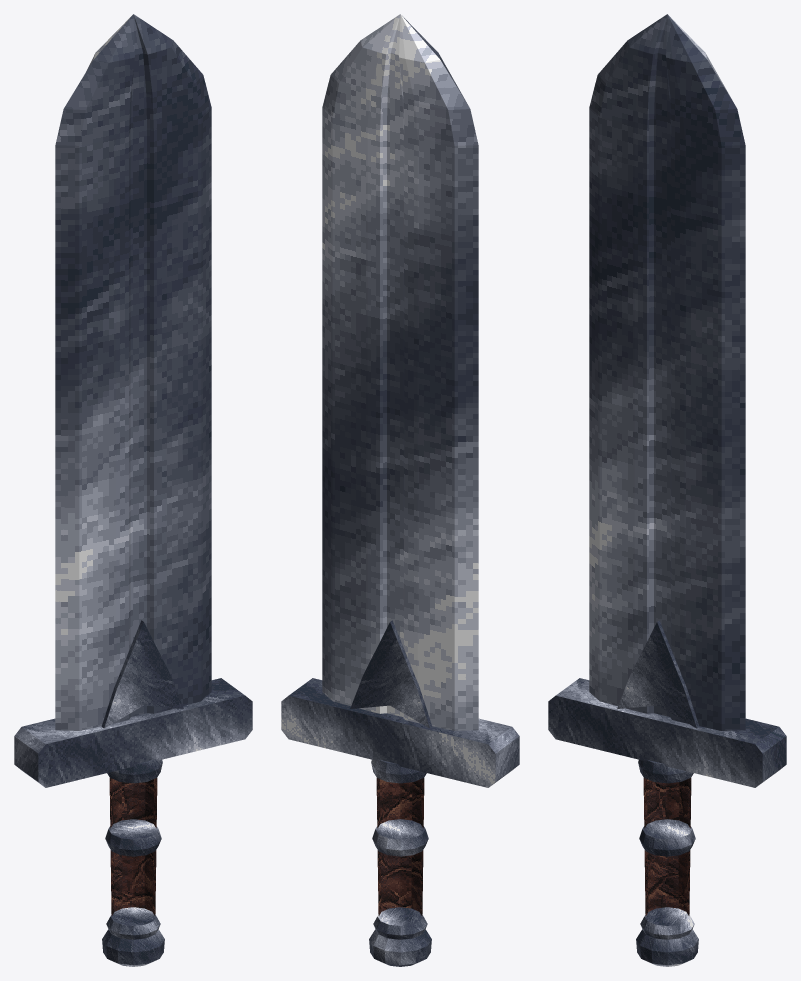
Rendered from espada_colossal.glb.
The picture shows the model from 3 angles, left to right: view 1: azimuth 30°, elevation 25°; view 2: azimuth 150°, elevation 25°; view 3: azimuth 330°, elevation 25°; orthographic projection.
Parts seen in each view (by area): view 1: Lâmina colossal facetada, Guarda maciça, Cabo de couro para duas mãos, Reforço da lâmina, Anel central do cabo, Pomo metálico, Colar do pomo, Colar junto à guarda; view 2: Lâmina colossal facetada, Guarda maciça, Cabo de couro para duas mãos, Reforço da lâmina.001, Anel central do cabo, Pomo metálico, Colar do pomo, Colar junto à guarda; view 3: Lâmina colossal facetada, Guarda maciça, Cabo de couro para duas mãos, Reforço da lâmina, Anel central do cabo, Pomo metálico, Colar do pomo, Colar junto à guarda.
Boxes of the visible parts, x1=… form: Lâmina colossal facetada: x1=55, y1=14, x2=211, y2=730; Guarda maciça: x1=14, y1=678, x2=252, y2=787; Cabo de couro para duas mãos: x1=109, y1=778, x2=157, y2=915; Reforço da lâmina: x1=101, y1=620, x2=183, y2=728; Anel central do cabo: x1=105, y1=819, x2=161, y2=856; Pomo metálico: x1=102, y1=929, x2=164, y2=966; Colar do pomo: x1=106, y1=907, x2=160, y2=939; Colar junto à guarda: x1=107, y1=759, x2=162, y2=783; Lâmina colossal facetada: x1=322, y1=14, x2=478, y2=730; Guarda maciça: x1=281, y1=678, x2=519, y2=787; Cabo de couro para duas mãos: x1=376, y1=778, x2=424, y2=915; Reforço da lâmina.001: x1=350, y1=620, x2=432, y2=728; Anel central do cabo: x1=372, y1=819, x2=428, y2=856; Pomo metálico: x1=369, y1=929, x2=431, y2=966; Colar do pomo: x1=373, y1=907, x2=427, y2=939; Colar junto à guarda: x1=371, y1=759, x2=426, y2=783; Lâmina colossal facetada: x1=589, y1=14, x2=745, y2=730; Guarda maciça: x1=548, y1=678, x2=786, y2=787; Cabo de couro para duas mãos: x1=643, y1=778, x2=691, y2=915; Reforço da lâmina: x1=617, y1=620, x2=699, y2=728; Anel central do cabo: x1=639, y1=819, x2=695, y2=856; Pomo metálico: x1=636, y1=929, x2=698, y2=966; Colar do pomo: x1=640, y1=907, x2=694, y2=939; Colar junto à guarda: x1=638, y1=759, x2=693, y2=783.
Bounding box in the file's own units: 1.18 × 4.97 × 0.3.
Materials: 2 (2 with a texture image).
